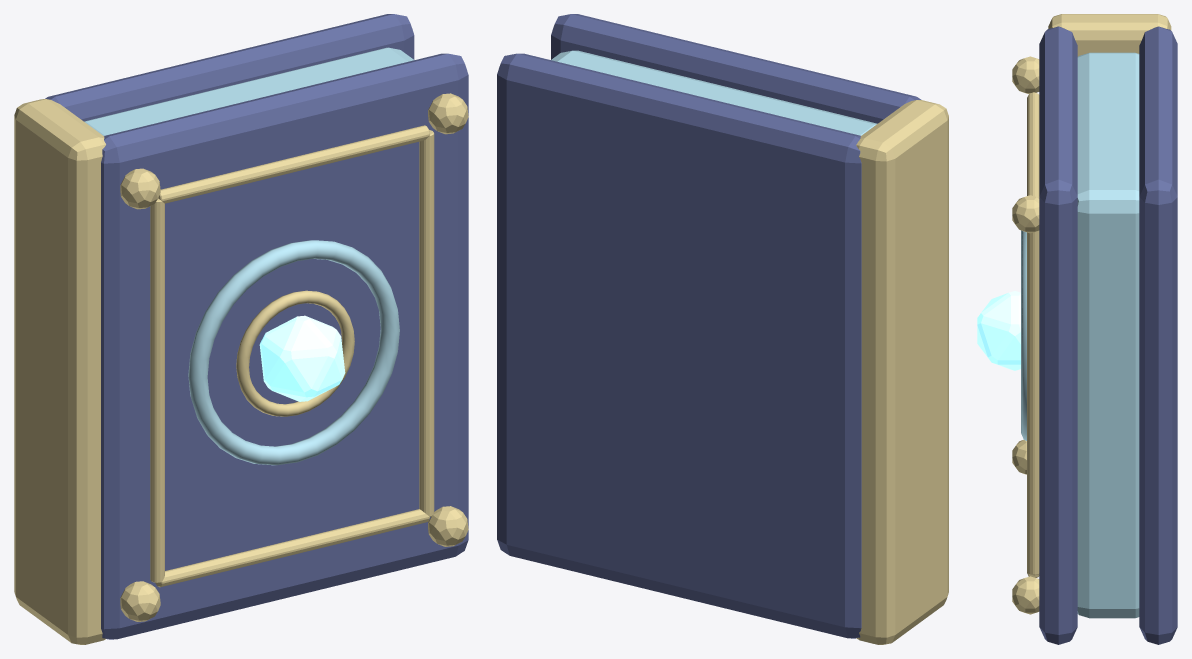
Rendered from mage-book-01-astral-codex.glb.
The picture shows the model from 3 angles, left to right: view 1: azimuth 30°, elevation 25°; view 2: azimuth 150°, elevation 25°; view 3: azimuth 270°, elevation 25°; orthographic projection. The views are drawn at different scales.
Parts seen in each view (by area): view 1: mage-book-01-astral-codex_FrontCover, mage-book-01-astral-codex_Spine, mage-book-01-astral-codex_CoverSigilRing, mage-book-01-astral-codex_BackCover, mage-book-01-astral-codex_PageBlock, mage-book-01-astral-codex_GiltFrameSide_1, mage-book-01-astral-codex_CoverGem, mage-book-01-astral-codex_GiltFrameSide_-1, mage-book-01-astral-codex_GiltFrame_0.86, mage-book-01-astral-codex_GiltFrame_0.1, mage-book-01-astral-codex_CoverSigilInner, mage-book-01-astral-codex_CornerStud_-1_0.07 (+3 smaller); view 2: mage-book-01-astral-codex_BackCover, mage-book-01-astral-codex_Spine, mage-book-01-astral-codex_FrontCover, mage-book-01-astral-codex_PageBlock; view 3: mage-book-01-astral-codex_PageBlock, mage-book-01-astral-codex_FrontCover, mage-book-01-astral-codex_BackCover, mage-book-01-astral-codex_GiltFrameSide_1, mage-book-01-astral-codex_Spine, mage-book-01-astral-codex_CoverGem, mage-book-01-astral-codex_GiltFrame_0.86, mage-book-01-astral-codex_CoverSigilRing, mage-book-01-astral-codex_CornerStud_1_0.89, mage-book-01-astral-codex_CornerStud_1_0.07, mage-book-01-astral-codex_CornerStud_-1_0.89, mage-book-01-astral-codex_CornerStud_-1_0.07.
Boxes of the visible parts, x1,y1,x2,y2 form: mage-book-01-astral-codex_FrontCover: (101, 53, 468, 639); mage-book-01-astral-codex_Spine: (14, 99, 105, 644); mage-book-01-astral-codex_CoverSigilRing: (188, 240, 399, 465); mage-book-01-astral-codex_BackCover: (45, 14, 414, 121); mage-book-01-astral-codex_PageBlock: (84, 47, 414, 135); mage-book-01-astral-codex_GiltFrameSide_1: (419, 130, 434, 516); mage-book-01-astral-codex_CoverGem: (259, 315, 345, 401); mage-book-01-astral-codex_GiltFrameSide_-1: (150, 198, 164, 582); mage-book-01-astral-codex_GiltFrame_0.86: (158, 125, 429, 203); mage-book-01-astral-codex_GiltFrame_0.1: (155, 509, 429, 587); mage-book-01-astral-codex_CoverSigilInner: (236, 290, 354, 416); mage-book-01-astral-codex_CornerStud_-1_0.07: (120, 581, 160, 621); mage-book-01-astral-codex_BackCover: (497, 53, 861, 638); mage-book-01-astral-codex_Spine: (856, 100, 948, 644); mage-book-01-astral-codex_FrontCover: (551, 14, 921, 123); mage-book-01-astral-codex_PageBlock: (551, 50, 877, 135); mage-book-01-astral-codex_PageBlock: (1077, 52, 1139, 618); mage-book-01-astral-codex_FrontCover: (1039, 26, 1077, 644); mage-book-01-astral-codex_BackCover: (1139, 26, 1177, 644); mage-book-01-astral-codex_GiltFrameSide_1: (1027, 231, 1039, 575); mage-book-01-astral-codex_Spine: (1048, 14, 1171, 56); mage-book-01-astral-codex_CoverGem: (977, 291, 1020, 370); mage-book-01-astral-codex_GiltFrame_0.86: (1027, 92, 1039, 197); mage-book-01-astral-codex_CoverSigilRing: (1021, 230, 1026, 440); mage-book-01-astral-codex_CornerStud_1_0.89: (1012, 195, 1039, 233); mage-book-01-astral-codex_CornerStud_1_0.07: (1012, 576, 1039, 614); mage-book-01-astral-codex_CornerStud_-1_0.89: (1012, 56, 1039, 93); mage-book-01-astral-codex_CornerStud_-1_0.07: (1012, 440, 1026, 474).
Bounding box in the file's own units: 0.825 × 1 × 0.3912.
